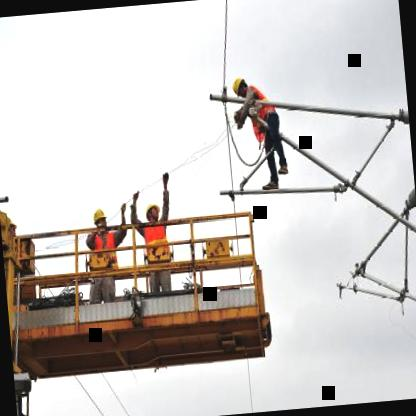helmet: (230, 71, 250, 101), (142, 199, 160, 226), (92, 207, 108, 236)
